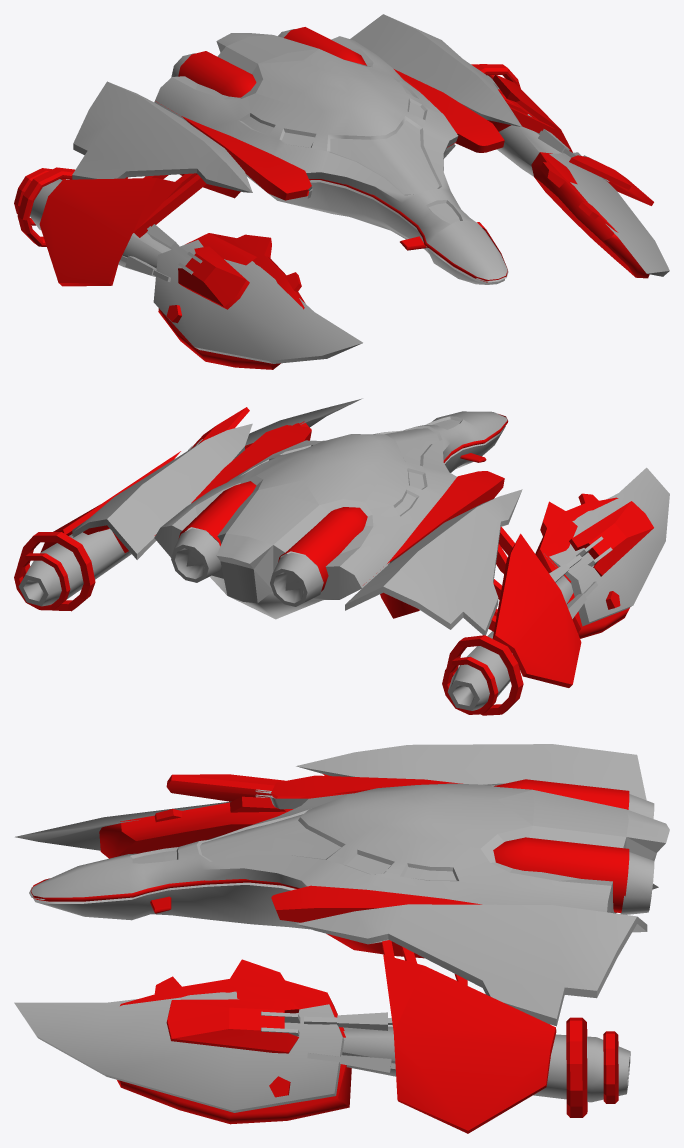
The model's file is Kenos3.fbx.
The picture shows the model from 3 angles, top to bottom: view 1: azimuth 30°, elevation 25°; view 2: azimuth 150°, elevation 25°; view 3: azimuth 270°, elevation 25°; orthographic projection. The views are drawn at different scales.
Visible parts, largest first — view 1: kenos3_diffuse, kenos3_color; view 2: kenos3_diffuse, kenos3_color; view 3: kenos3_diffuse, kenos3_color.
Part boxes in pixels (x1,y1,x2,y2): kenos3_diffuse: (30, 14, 669, 363); kenos3_color: (14, 27, 653, 369); kenos3_diffuse: (18, 398, 669, 710); kenos3_color: (14, 407, 653, 715); kenos3_diffuse: (14, 744, 669, 1112); kenos3_color: (30, 774, 629, 1133).
Size of the model in its own units: 7.17 by 2.28 by 6.61.
